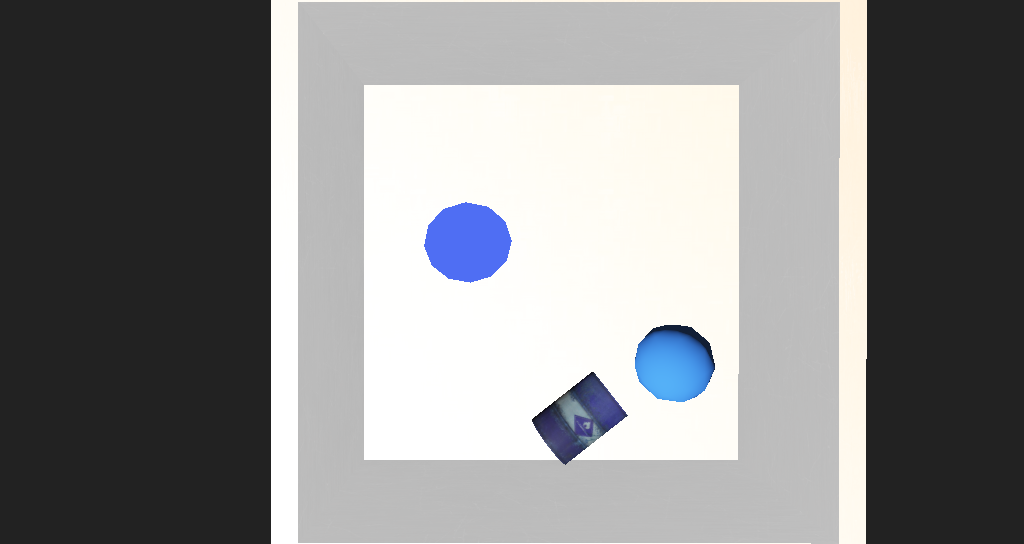cone: (485, 320, 566, 377)
cylinder: (384, 200, 478, 277)
sphere: (566, 298, 633, 341)
